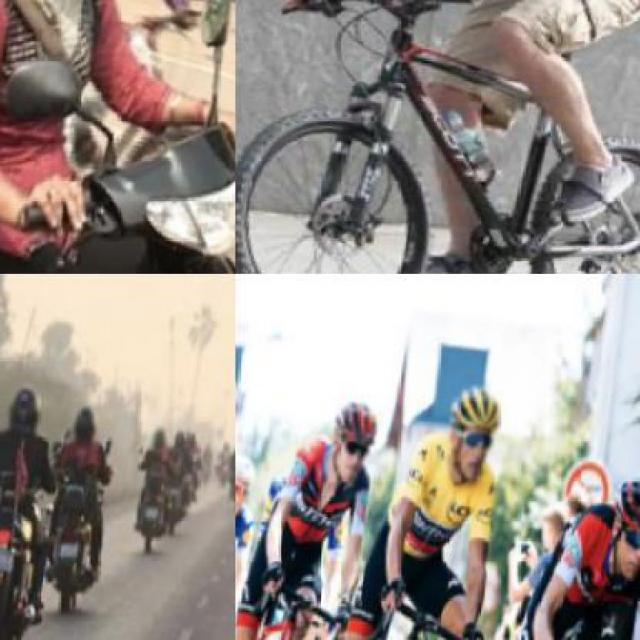With Helmet: (325, 385, 387, 497), (444, 377, 510, 481), (604, 455, 638, 577), (1, 364, 51, 442), (69, 386, 108, 448), (236, 443, 264, 519), (150, 410, 175, 448)
